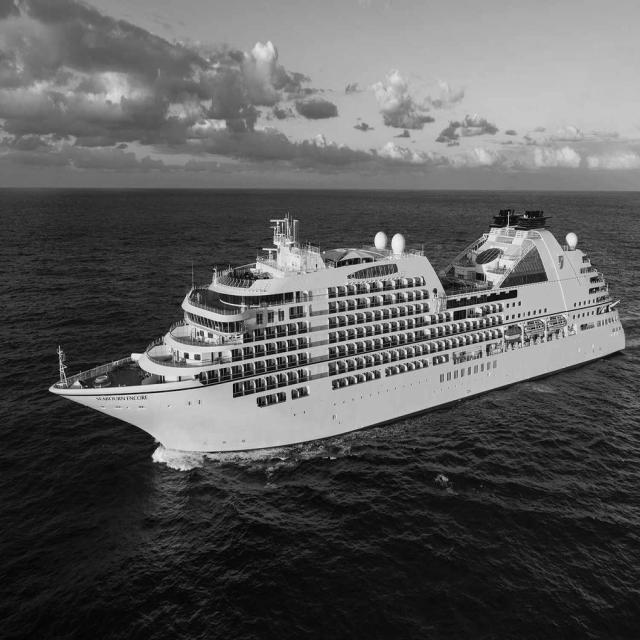Cruise Ship: (36, 179, 632, 523)
